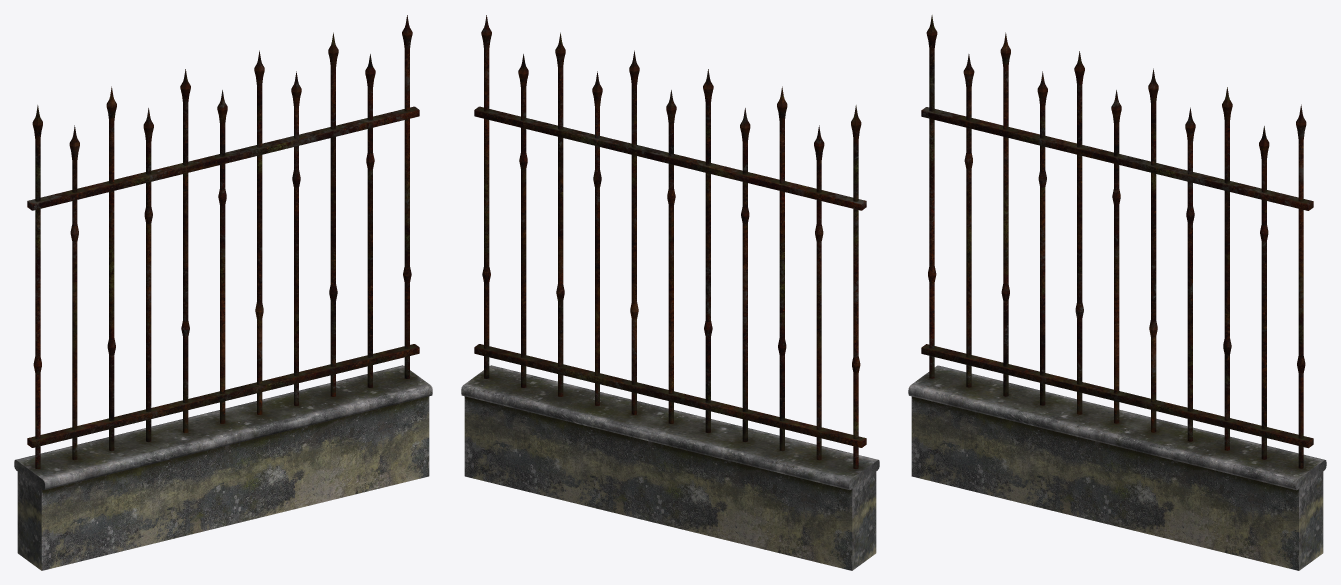
File: SM_fence_25.fbx
3 views of the same model, side by side, from view 1: azimuth 30°, elevation 25°; view 2: azimuth 150°, elevation 25°; view 3: azimuth 330°, elevation 25° (orthographic).
Visible parts, largest first — view 1: SM_fence_25; view 2: SM_fence_25; view 3: SM_fence_25.
Part boxes in pixels (x1,y1,x2,y2): SM_fence_25: [14, 15, 432, 570]; SM_fence_25: [461, 15, 879, 570]; SM_fence_25: [908, 15, 1326, 570].
Bounding box in the file's own units: 341 × 383 × 46.92.
